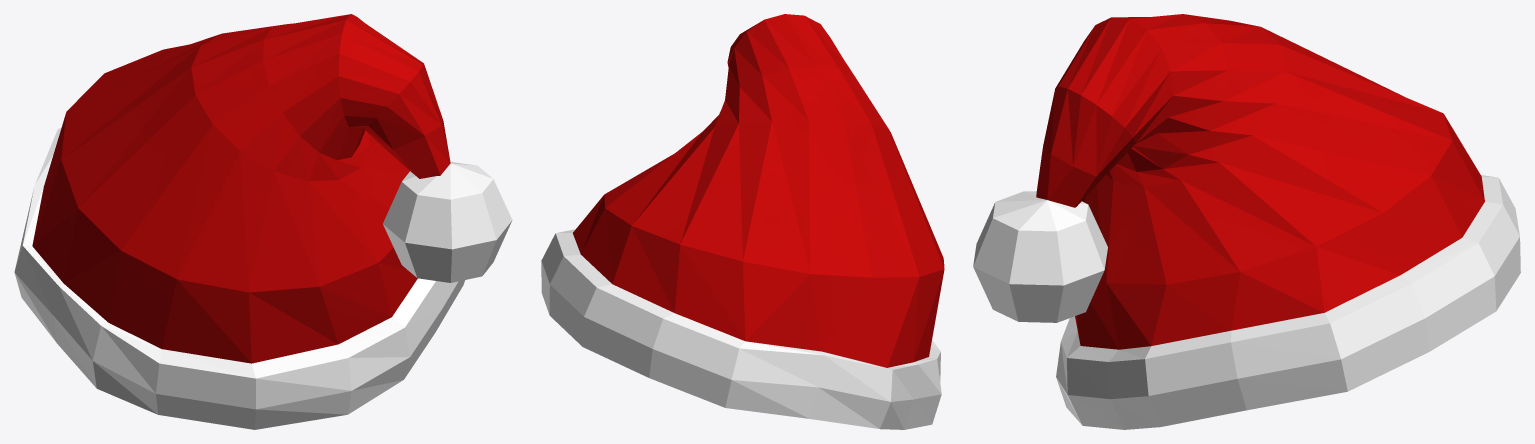
Rendered from SANTA HAT.fbx.
3 renders of one model, left to right at view 1: azimuth 30°, elevation 25°; view 2: azimuth 150°, elevation 25°; view 3: azimuth 270°, elevation 25°, orthographic. The views are drawn at different scales.
Parts seen in each view (by area): view 1: SANTA_HAT; view 2: SANTA_HAT; view 3: SANTA_HAT.
Boxes of the visible parts, x1,y1,x2,y2 form: SANTA_HAT: (14, 14, 512, 429); SANTA_HAT: (541, 14, 944, 429); SANTA_HAT: (973, 14, 1520, 429).
Bounding box in the file's own units: 29.28 × 27.06 × 32.92.
